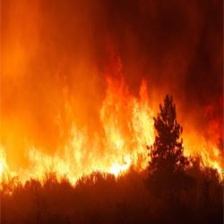fire: (1, 95, 224, 191)
